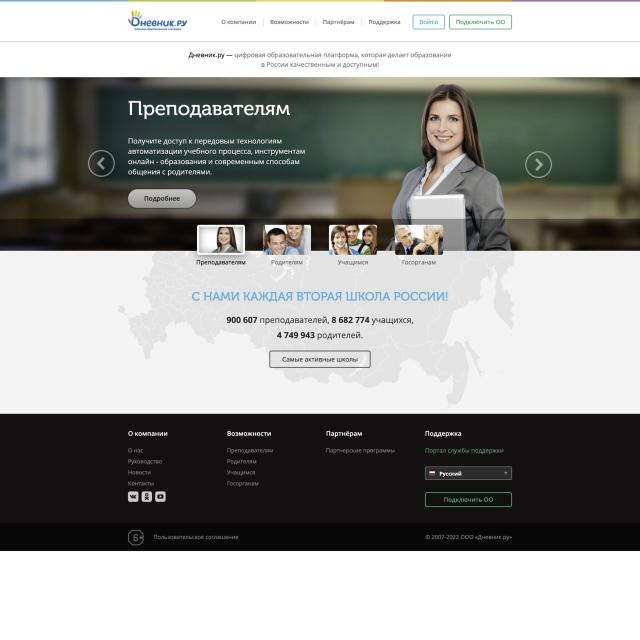footer: (0, 414, 640, 552)
logo: (124, 8, 192, 34)
navigation: (220, 16, 403, 30)
